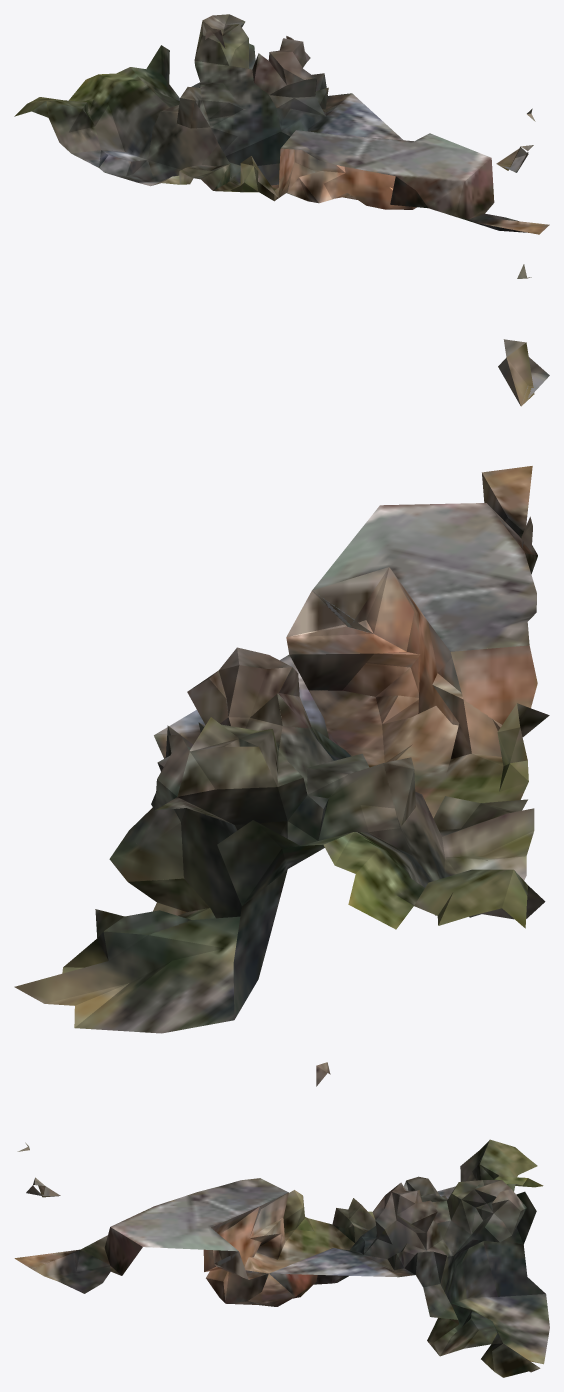
Rendered from Tile_005_008_L18.gltf.
3 renders of one model, top to bottom at view 1: azimuth 30°, elevation 25°; view 2: azimuth 150°, elevation 25°; view 3: azimuth 270°, elevation 25°, orthographic. The views are drawn at different scales.
Visible parts, largest first — view 1: Tile_+005_+008_L18; view 2: Tile_+005_+008_L18; view 3: Tile_+005_+008_L18.
Part boxes in pixels (x1,y1,x2,y2): Tile_+005_+008_L18: (14, 14, 549, 234); Tile_+005_+008_L18: (14, 264, 549, 1033); Tile_+005_+008_L18: (14, 1062, 549, 1377).
Bounding box in the file's own units: 23.47 × 19.03 × 39.87.
1 material, 1 textured.
